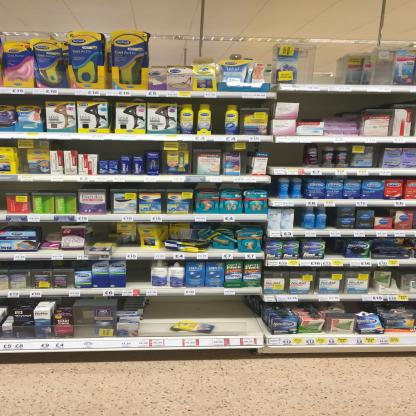Void: (147, 299, 251, 322), (308, 93, 353, 118), (270, 140, 304, 165), (316, 48, 338, 86), (362, 95, 390, 110), (132, 262, 150, 284), (60, 139, 93, 150), (99, 141, 115, 158), (124, 142, 141, 154)
